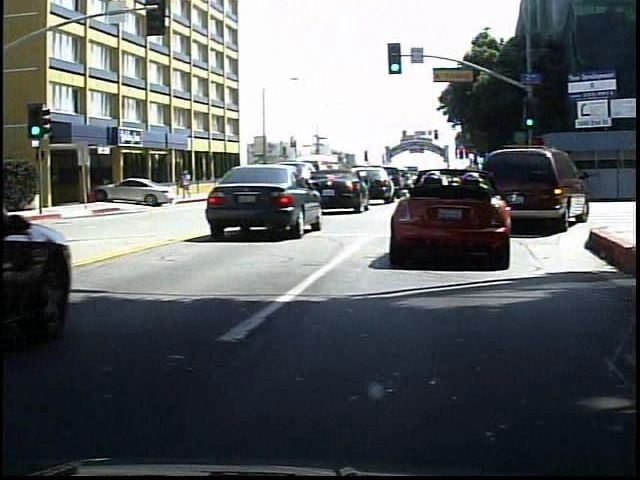person: (176, 169, 190, 202)
